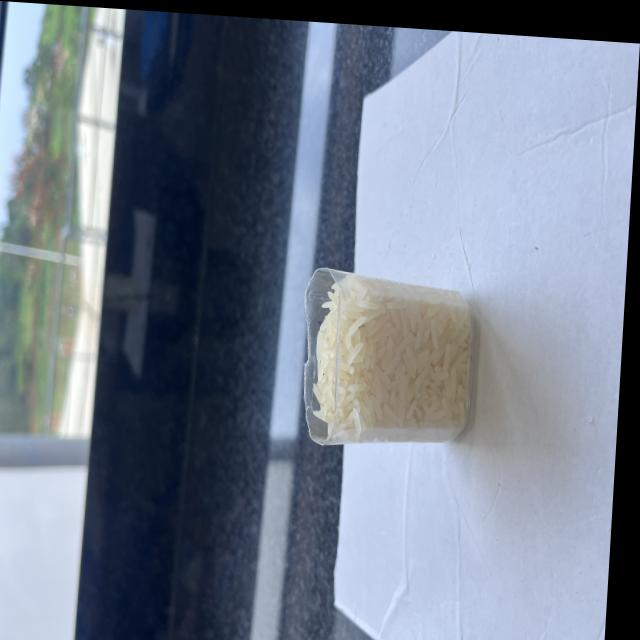raw_rice: (316, 271, 483, 439)
